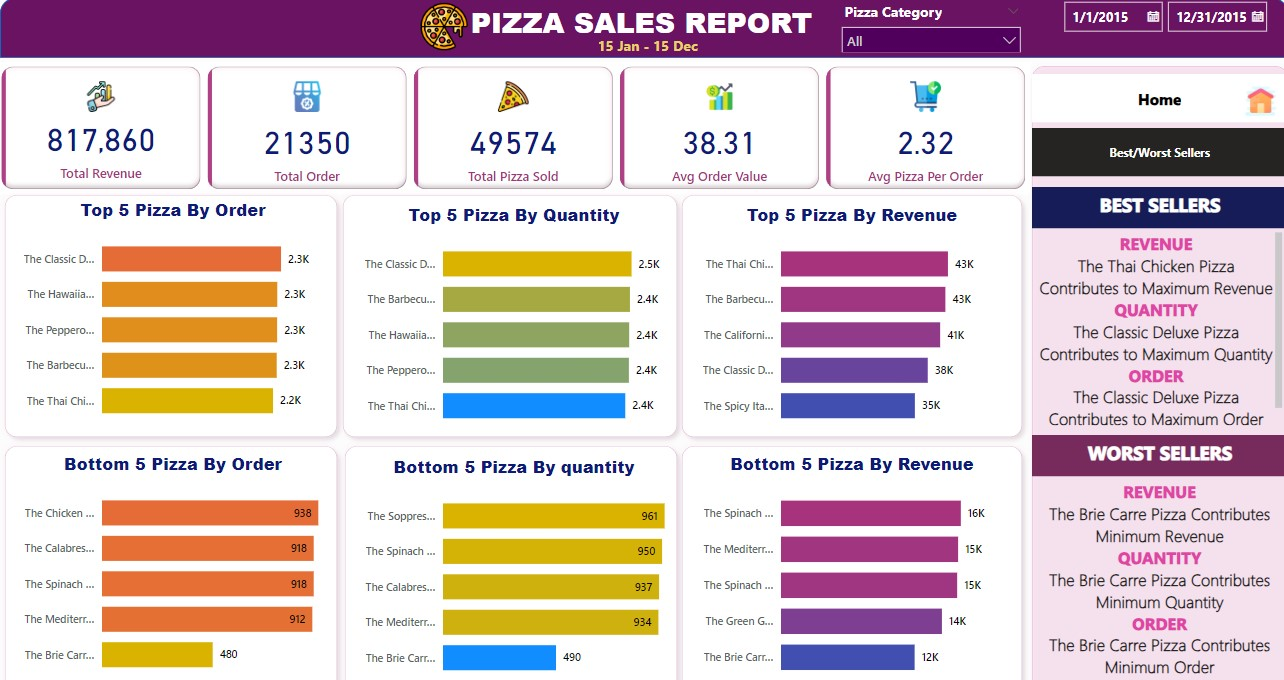

What the dashboard file says about the page in this screenshot:
{"tool":"powerbi","page":{"name":"Best/Worst Sellers","canvas":[1500,820],"ordinal":1},"visuals":[{"type":"cardVisual","fields":{"Data":["pizza_sales.total_revinue","pizza_sales.total_order","pizza_sales.total_pizza_sold","pizza_sales.avg_order_value","pizza_sales.avg_pizza_per_order"]},"box":[17.3,87.7,1178,150.9],"z":0},{"type":"shape","box":[20.5,14.8,1468.1,68.4],"z":1000},{"type":"textbox","box":[523.2,14.3,456.9,58.1],"z":2000},{"type":"textbox","box":[696.4,53.6,137.9,34.2],"z":3000},{"type":"image","box":[494.7,11.4,63.8,71.8],"z":4000},{"type":"shape","box":[788.8,230.2,405.8,294.1],"z":5000},{"type":"shape","box":[1187.2,83.6,310,736.4],"z":6000},{"type":"shape","box":[17.1,516.3,396.7,303.2],"z":7000},{"type":"slicer","fields":{"Values":["pizza_sales.pizza_category"]},"box":[969.9,15.3,224.4,62.2],"z":8000},{"type":"slicer","fields":{"Values":["pizza_sales.order_date"]},"box":[1220.7,9.1,264.4,74.1],"z":9000},{"type":"textbox","box":[1196.3,230.5,292,46.9],"z":10000},{"type":"textbox","box":[1196.3,513,292,46.9],"z":11000},{"type":"textbox","box":[1198.4,277.4,288.6,230.5],"z":12000},{"type":"textbox","box":[1198.4,559.9,288.6,260.1],"z":13000},{"type":"shape","box":[402.4,230.2,398.9,294.1],"z":14000},{"type":"shape","box":[17.1,230.2,396.7,294.1],"z":15000},{"type":"shape","box":[404.6,516.3,396.7,303.2],"z":16000},{"type":"shape","box":[788.8,516.3,405.8,303.2],"z":17000},{"type":"barChart","title":"Top 5 Pizza By Revenue","fields":{"Category":["pizza_sales.pizza_name"],"Y":["pizza_sales.Total Revenue"]},"box":[804.7,248.5,373.9,267.9],"z":18000},{"type":"barChart","title":"Bottom 5 Pizza By Revenue","fields":{"Category":["pizza_sales.pizza_name"],"Y":["pizza_sales.Total Revenue"]},"box":[804.7,532.3,373.9,271.3],"z":19000},{"type":"barChart","title":"Top 5 Pizza By Quantity","fields":{"Category":["pizza_sales.pizza_name"],"Y":["pizza_sales.Total Pizza Sold"]},"box":[419.5,248.5,373.9,267.9],"z":20000},{"type":"barChart","title":"Bottom 5 Pizza By quantity","fields":{"Category":["pizza_sales.pizza_name"],"Y":["pizza_sales.Total Pizza Sold"]},"box":[419.5,535.7,373.9,267.9],"z":21000},{"type":"barChart","title":"Top 5 Pizza By Order","fields":{"Category":["pizza_sales.pizza_name"],"Y":["pizza_sales.Total Order"]},"box":[30.8,242.8,373.9,267.9],"z":22000},{"type":"barChart","title":"Bottom 5 Pizza By Order","fields":{"Category":["pizza_sales.pizza_name"],"Y":["pizza_sales.Total Order"]},"box":[30.8,532.3,373.9,267.9],"z":23000},{"type":"pageNavigator","box":[1196.3,102,291.7,55.1],"z":24000},{"type":"pageNavigator","box":[1196.3,163.2,291.7,55],"z":25000},{"type":"image","box":[1435,107.1,45,50],"z":26000}]}

Visuals, with their boxes on the page's 1500x820 design canvas (x1, y1, x2, y2). These are canvas units, not pixel positions in the 1284x680 screenshot, which may show the page scaled, cropped or inside an application window:
cardVisual - pizza_sales.total_revinue x pizza_sales.total_order: x1=17 y1=88 x2=1195 y2=239
shape: x1=20 y1=15 x2=1489 y2=83
textbox: x1=523 y1=14 x2=980 y2=72
textbox: x1=696 y1=54 x2=834 y2=88
image: x1=495 y1=11 x2=558 y2=83
shape: x1=789 y1=230 x2=1195 y2=524
shape: x1=1187 y1=84 x2=1497 y2=820
shape: x1=17 y1=516 x2=414 y2=820
slicer - pizza_sales.pizza_category: x1=970 y1=15 x2=1194 y2=78
slicer - pizza_sales.order_date: x1=1221 y1=9 x2=1485 y2=83
textbox: x1=1196 y1=230 x2=1488 y2=277
textbox: x1=1196 y1=513 x2=1488 y2=560
textbox: x1=1198 y1=277 x2=1487 y2=508
textbox: x1=1198 y1=560 x2=1487 y2=820
shape: x1=402 y1=230 x2=801 y2=524
shape: x1=17 y1=230 x2=414 y2=524
shape: x1=405 y1=516 x2=801 y2=820
shape: x1=789 y1=516 x2=1195 y2=820
"Top 5 Pizza By Revenue" barChart: x1=805 y1=248 x2=1179 y2=516
"Bottom 5 Pizza By Revenue" barChart: x1=805 y1=532 x2=1179 y2=804
"Top 5 Pizza By Quantity" barChart: x1=420 y1=248 x2=793 y2=516
"Bottom 5 Pizza By quantity" barChart: x1=420 y1=536 x2=793 y2=804
"Top 5 Pizza By Order" barChart: x1=31 y1=243 x2=405 y2=511
"Bottom 5 Pizza By Order" barChart: x1=31 y1=532 x2=405 y2=800
pageNavigator: x1=1196 y1=102 x2=1488 y2=157
pageNavigator: x1=1196 y1=163 x2=1488 y2=218
image: x1=1435 y1=107 x2=1480 y2=157
